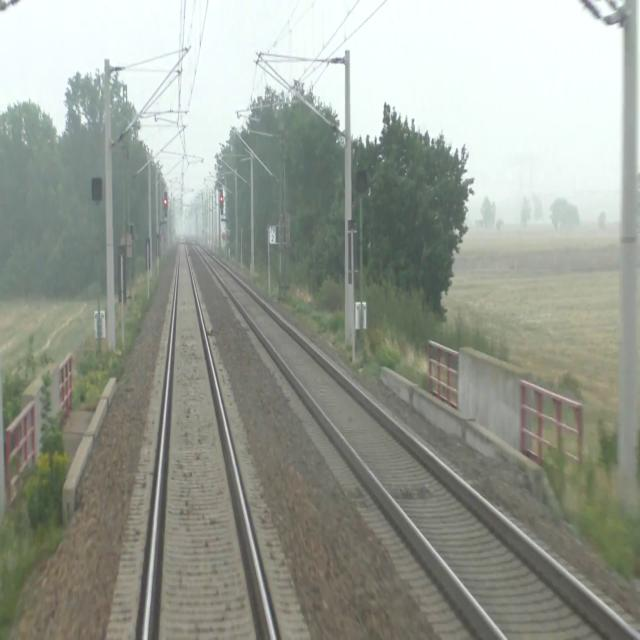rail-track: (188, 236, 637, 639), (147, 235, 271, 639)
